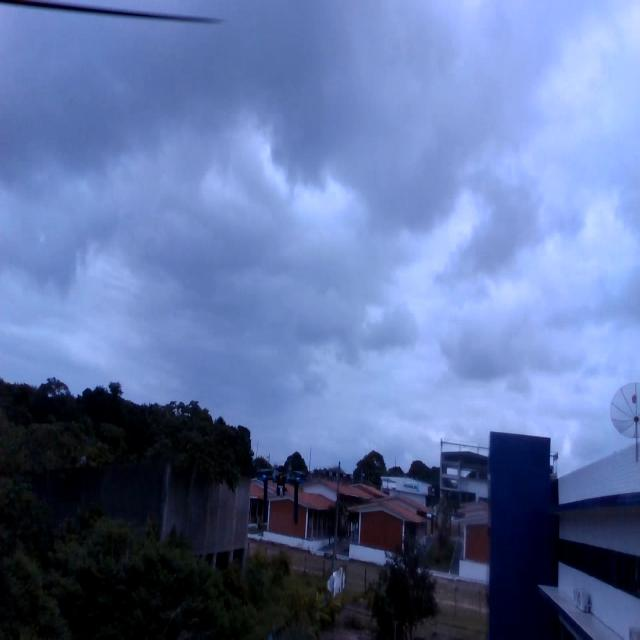-uav-: (252, 454, 313, 524)
